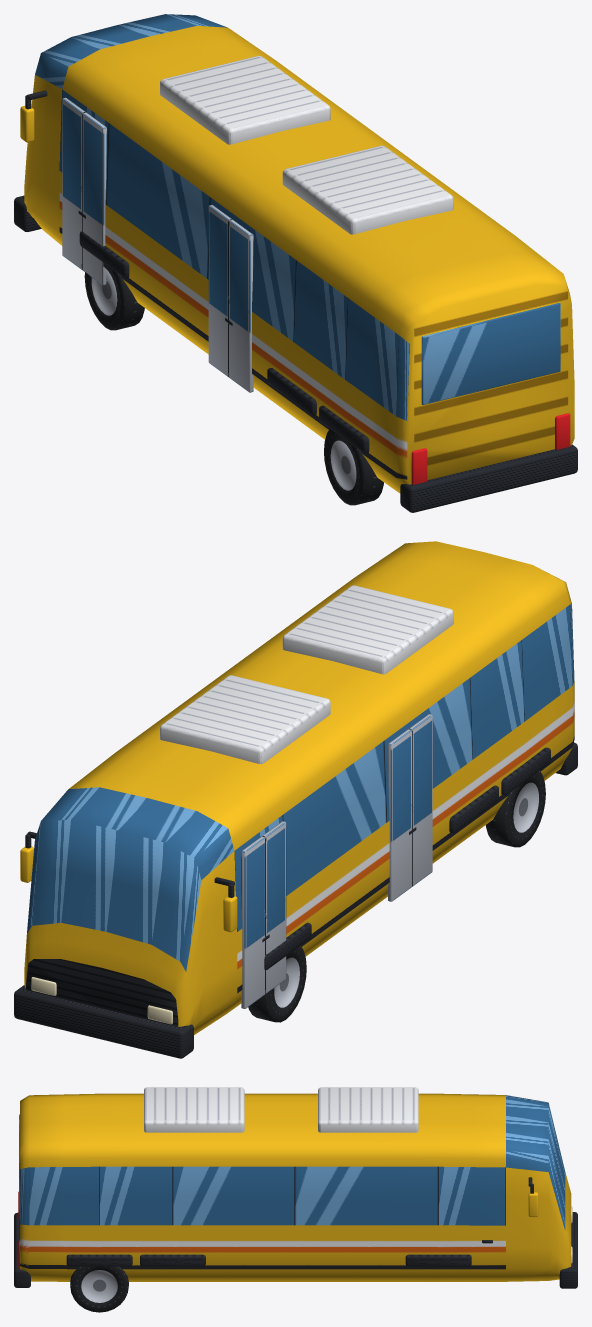
File: mobil_bus.fbx
The picture shows the model from 3 angles, top to bottom: view 1: azimuth 30°, elevation 25°; view 2: azimuth 150°, elevation 25°; view 3: azimuth 270°, elevation 25°; orthographic projection. The views are drawn at different scales.
Parts seen in each view (by area): view 1: ShellBody, WheelPiece; view 2: ShellBody, WheelPiece; view 3: ShellBody.
Boxes of the visible parts, <box> form: ShellBody: <box>14,14,577,512</box>; WheelPiece: <box>84,262,144,330</box>; ShellBody: <box>14,541,577,1058</box>; WheelPiece: <box>248,945,306,1022</box>; ShellBody: <box>14,1087,577,1312</box>.
Bounding box in the file's own units: 7.38 × 8.32 × 24.
Materials: 1 (1 with a texture image).
